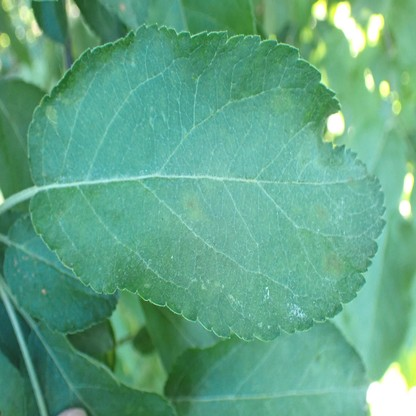scab: (321, 251, 347, 276), (180, 187, 199, 220), (271, 90, 292, 114), (44, 106, 58, 125), (312, 202, 327, 215)
